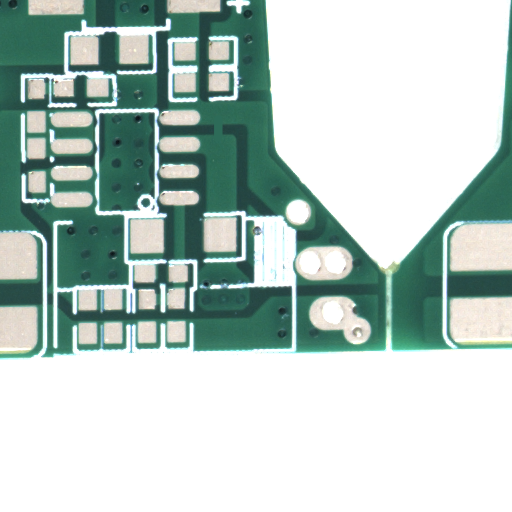Short: (218, 129, 237, 148)
